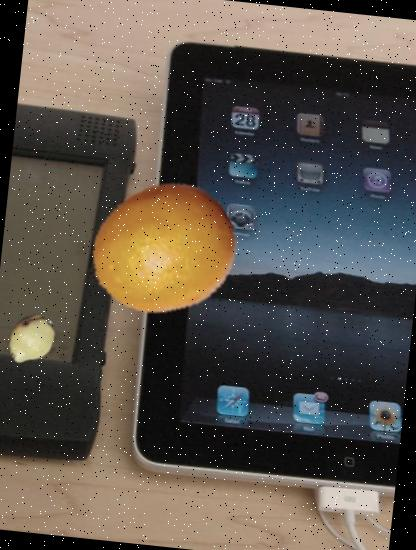Lemon: (81, 170, 243, 332)
Quince: (1, 310, 61, 370)
